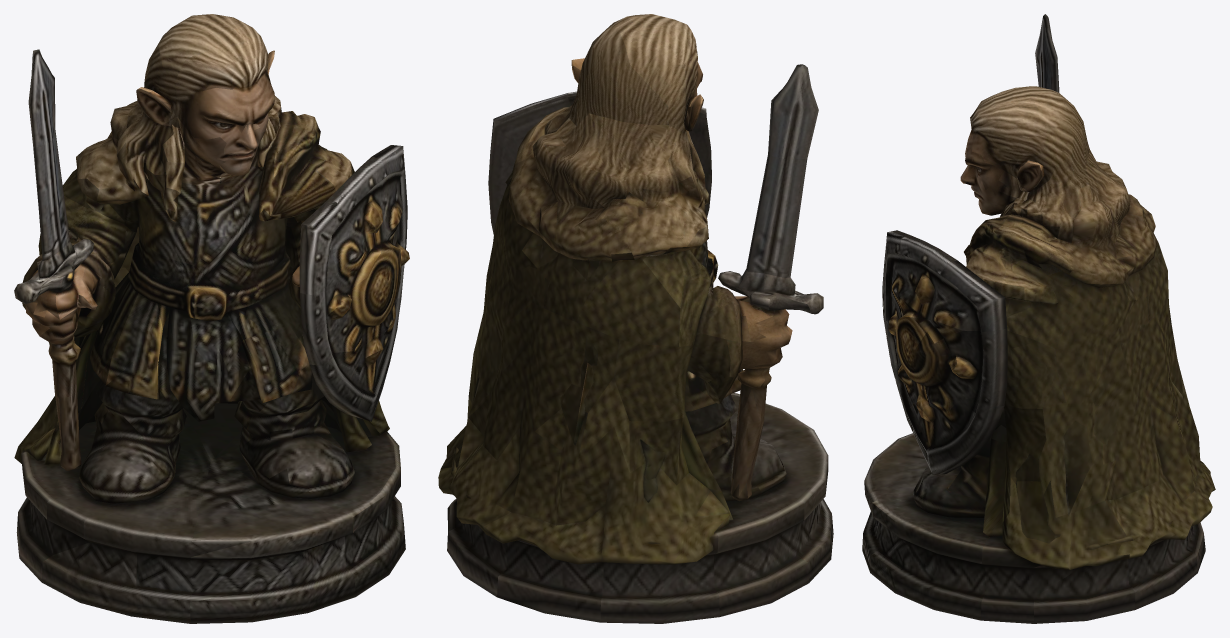
Rendered from elf_warrior.glb.
The picture shows the model from 3 angles, left to right: view 1: azimuth 30°, elevation 25°; view 2: azimuth 150°, elevation 25°; view 3: azimuth 270°, elevation 25°; orthographic projection. The views are drawn at different scales.
Parts seen in each view (by area): view 1: mesh_node; view 2: mesh_node; view 3: mesh_node.
Part boxes in pixels (<box>): mesh_node: <box>14,14,409,623</box>; mesh_node: <box>438,14,833,623</box>; mesh_node: <box>862,14,1215,623</box>.
Bounding box in the file's own units: 0.7226 × 1 × 0.6914.
1 material, 1 textured.
